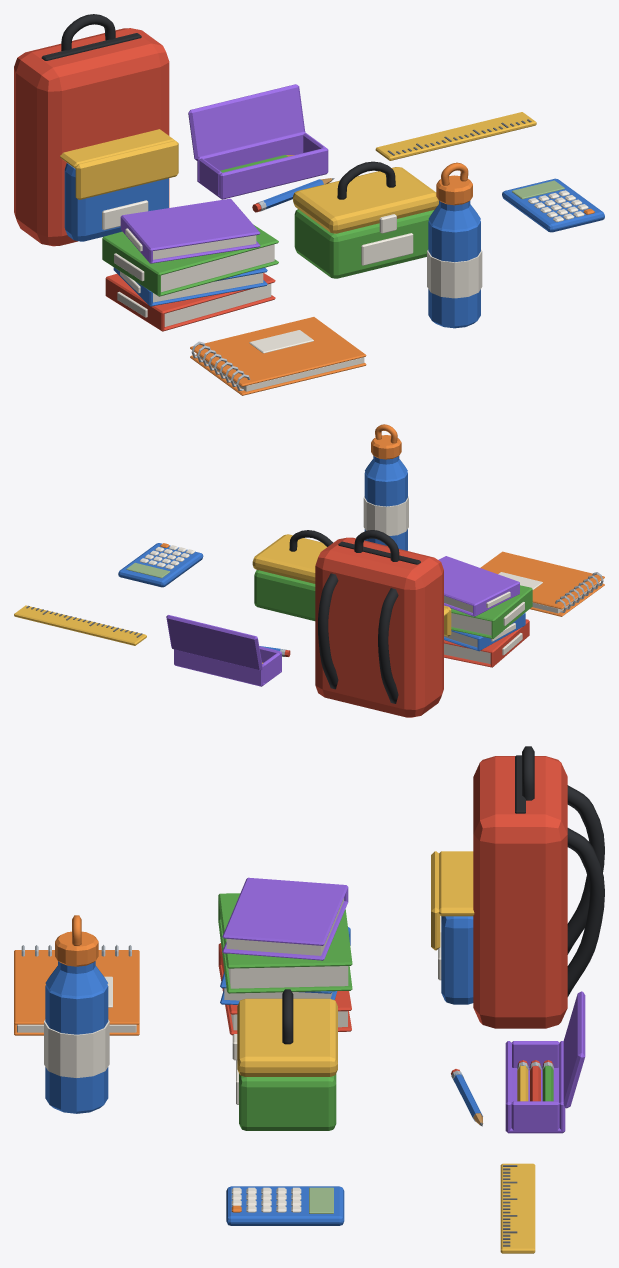
The model's file is school-supplies-set.glb.
3 views of the same model, one above another, from view 1: azimuth 30°, elevation 25°; view 2: azimuth 150°, elevation 25°; view 3: azimuth 270°, elevation 25° (orthographic). The views are drawn at different scales.
Parts seen in each view (by area): view 1: Backpack_Body, PencilCase_Tray, Lunchbox_Lid, Notebook_Cover, PencilCase_Lid, Backpack_Flap, Book_4_Cover, Lunchbox_Base, Backpack_Pocket, Bottle_Body, Book_3_Cover, Ruler_Body (+21 smaller); view 2: Backpack_Body, PencilCase_Lid, Notebook_Cover, Book_4_Cover, Lunchbox_Base, Lunchbox_Lid, PencilCase_Tray, Ruler_Body, Bottle_Body, Calculator_Body, Bottle_Label, Book_3_Cover (+12 smaller); view 3: Backpack_Body, Lunchbox_Lid, Book_4_Cover, Lunchbox_Base, Notebook_Cover, Bottle_Body, PencilCase_Tray, Book_3_Cover, Backpack_Flap, Calculator_Body, Ruler_Body, Bottle_Label (+13 smaller).
Part boxes in pixels (bbox=[...]): Backpack_Body: bbox=[14, 28, 169, 246]; PencilCase_Tray: bbox=[197, 131, 328, 199]; Lunchbox_Lid: bbox=[293, 167, 438, 233]; Notebook_Cover: bbox=[190, 317, 366, 386]; PencilCase_Lid: bbox=[188, 84, 305, 160]; Backpack_Flap: bbox=[60, 129, 178, 199]; Book_4_Cover: bbox=[120, 198, 260, 263]; Lunchbox_Base: bbox=[294, 209, 434, 278]; Backpack_Pocket: bbox=[64, 163, 168, 241]; Bottle_Body: bbox=[428, 220, 480, 328]; Book_3_Cover: bbox=[102, 224, 278, 296]; Ruler_Body: bbox=[375, 112, 536, 160]; Backpack_Body: bbox=[315, 537, 443, 717]; PencilCase_Lid: bbox=[166, 615, 262, 670]; Notebook_Cover: bbox=[480, 551, 604, 609]; Book_4_Cover: bbox=[438, 556, 519, 616]; Lunchbox_Base: bbox=[254, 570, 315, 620]; Lunchbox_Lid: bbox=[252, 534, 326, 583]; PencilCase_Tray: bbox=[174, 646, 281, 686]; Ruler_Body: bbox=[14, 605, 146, 645]; Bottle_Body: bbox=[364, 472, 407, 550]; Calculator_Body: bbox=[118, 543, 203, 587]; Bottle_Label: bbox=[363, 496, 408, 535]; Book_3_Cover: bbox=[450, 585, 532, 638]; Backpack_Body: bbox=[473, 756, 567, 1028]; Lunchbox_Lid: bbox=[237, 998, 337, 1076]; Book_4_Cover: bbox=[222, 877, 348, 960]; Lunchbox_Base: bbox=[239, 1073, 336, 1130]; Notebook_Cover: bbox=[14, 950, 139, 1024]; Bottle_Body: bbox=[45, 984, 108, 1113]; PencilCase_Tray: bbox=[505, 1041, 565, 1133]; Book_3_Cover: bbox=[218, 893, 352, 993]; Backpack_Flap: bbox=[431, 851, 474, 950]; Calculator_Body: bbox=[226, 1186, 344, 1225]; Ruler_Body: bbox=[500, 1163, 535, 1253]; Bottle_Label: bbox=[44, 1019, 109, 1077].
Bounding box in the file's own units: 4.42 × 1.75 × 3.76.
